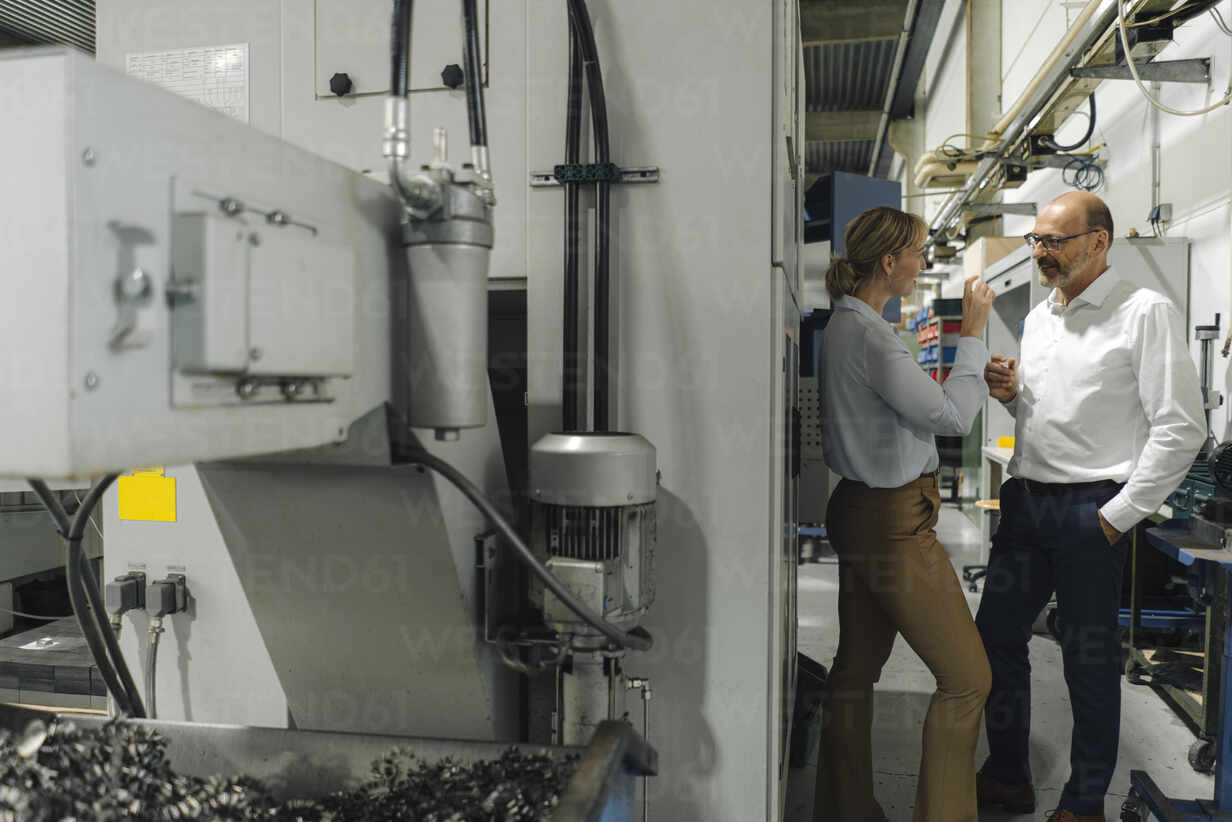person: (990, 190, 1209, 822), (821, 207, 990, 821)
